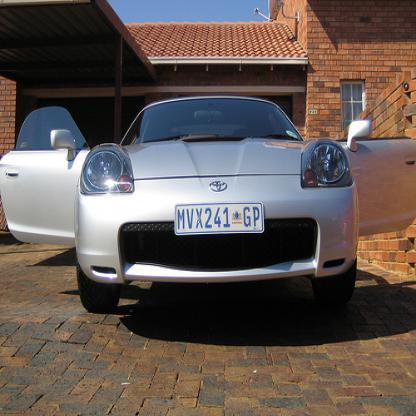car: (1, 94, 416, 316)
